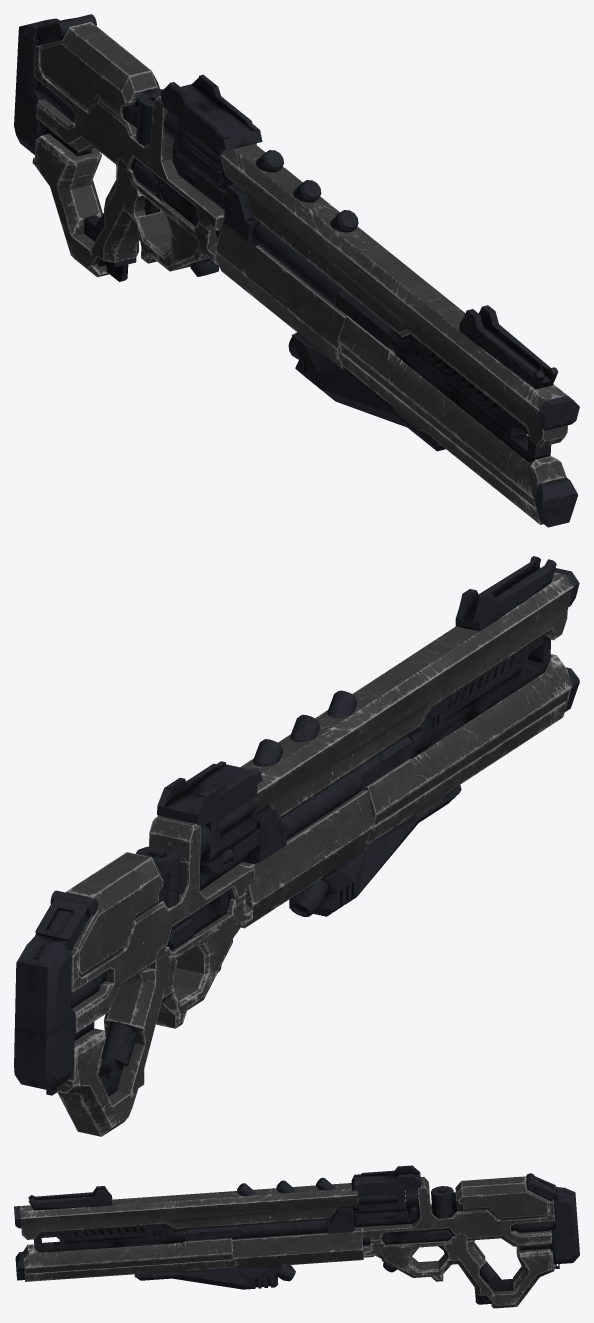
The model's file is Gun.fbx.
The picture shows the model from 3 angles, top to bottom: view 1: azimuth 30°, elevation 25°; view 2: azimuth 150°, elevation 25°; view 3: azimuth 270°, elevation 25°; orthographic projection. The views are drawn at different scales.
Visible parts, largest first — view 1: Gun; view 2: Gun; view 3: Gun.
Part boxes in pixels (x1,y1,x2,y2): Gun: [14, 14, 579, 527]; Gun: [14, 556, 579, 1136]; Gun: [14, 1165, 579, 1308].
Bounding box in the file's own units: 6.54 × 25.83 × 96.6.
